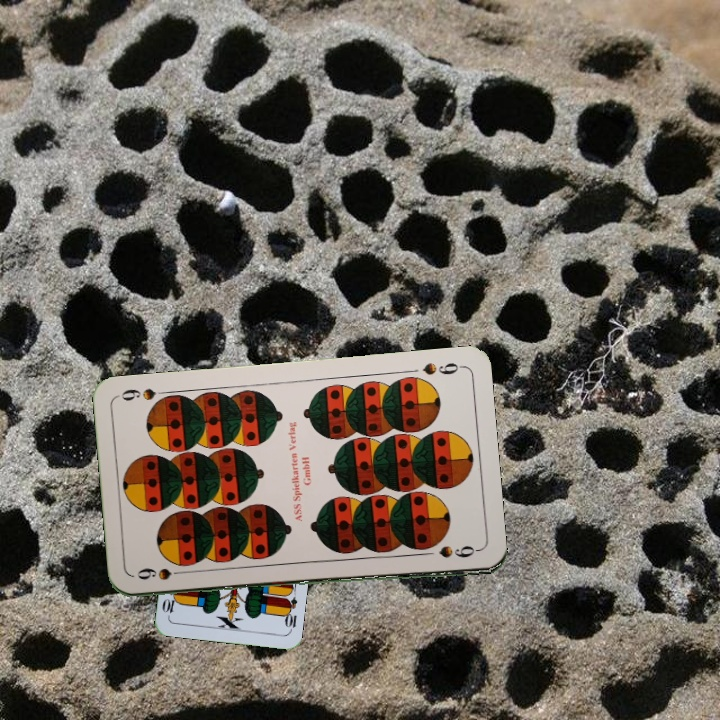E10: (280, 594, 300, 634)
S9: (133, 565, 192, 583), (419, 358, 465, 378)
